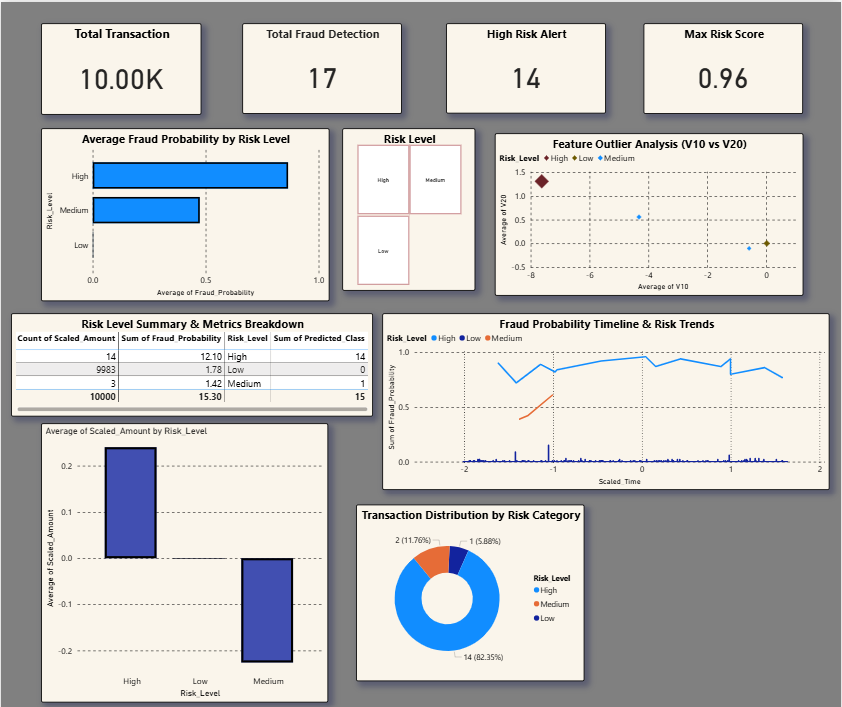

What the dashboard file says about the page in this screenshot:
{"tool":"powerbi","page":{"name":"Credit Card fraud detection","canvas":[1600,1365],"ordinal":0},"visuals":[{"type":"card","title":"Total Transaction","fields":{"Values":["CountNonNull(creditcard_predictions.Class)"]},"box":[76,40.2,305.5,174.3],"z":0},{"type":"card","title":"Total Fraud Detection","fields":{"Values":["Sum(creditcard_predictions.Class)"]},"box":[460.4,40.2,304,172.8],"z":1000},{"type":"card","title":"High Risk Alert","fields":{"Values":["CountNonNull(creditcard_predictions.Risk_Level)"]},"box":[847.7,41.5,304.6,172.3],"z":2000},{"type":"card","title":"Max Risk Score","fields":{"Values":["Max(creditcard_predictions.Fraud_Probability)"]},"box":[1223.3,40.2,304,172.8],"z":3000},{"type":"barChart","title":"Average Fraud Probability by Risk Level","fields":{"Category":["creditcard_predictions.Risk_Level"],"Y":["Avg(creditcard_predictions.Fraud_Probability)"]},"box":[75.4,240,549.2,329.2],"z":4000},{"type":"lineChart","title":"Fraud Probability Timeline & Risk Trends","fields":{"Category":["creditcard_predictions.Scaled_Time"],"Series":["creditcard_predictions.Risk_Level"],"Y":["Sum(creditcard_predictions.Fraud_Probability)"]},"box":[726.2,592.3,852.3,336.9],"z":5000},{"type":"tableEx","title":"Risk Level Summary & Metrics Breakdown","fields":{"Values":["CountNonNull(creditcard_predictions.Scaled_Amount)","Sum(creditcard_predictions.Fraud_Probability)","creditcard_predictions.Risk_Level","Sum(creditcard_predictions.Predicted_Class)"]},"box":[18.5,592.3,689.2,196.9],"z":6000},{"type":"slicer","title":"Risk Level","fields":{"Values":["creditcard_predictions.Risk_Level"]},"box":[650.8,240,253.8,309.2],"z":7000},{"type":"scatterChart","title":"Feature Outlier Analysis (V10 vs V20)","fields":{"Category":["creditcard_predictions.Predicted_Class"],"Series":["creditcard_predictions.Risk_Level"],"Size":["Sum(creditcard_predictions.Fraud_Probability)"],"X":["Avg(creditcard_predictions.V10)"],"Y":["Avg(creditcard_predictions.V20)"]},"box":[940,250.8,587.7,309.2],"z":8000},{"type":"donutChart","title":"Transaction Distribution by Risk Category","fields":{"Category":["creditcard_predictions.Risk_Level"],"Y":["Sum(creditcard_predictions.Class)"]},"box":[675.4,956.9,435.4,336.9],"z":9000},{"type":"clusteredColumnChart","fields":{"Category":["creditcard_predictions.Risk_Level"],"Y":["Avg(creditcard_predictions.Scaled_Amount)"]},"box":[76,801.6,546.8,531.9],"z":10000}]}

Visuals, with their boxes in screenshot pixels (x1, y1, x2, y2), scaled from the page's 1600x1365 canvas onto the 842x707 screenshot:
"Total Transaction" card: (40, 21, 201, 111)
"Total Fraud Detection" card: (242, 21, 402, 110)
"High Risk Alert" card: (446, 21, 606, 111)
"Max Risk Score" card: (644, 21, 804, 110)
"Average Fraud Probability by Risk Level" barChart: (40, 124, 329, 295)
"Fraud Probability Timeline & Risk Trends" lineChart: (382, 307, 831, 481)
"Risk Level Summary & Metrics Breakdown" tableEx: (10, 307, 372, 409)
"Risk Level" slicer: (342, 124, 476, 284)
"Feature Outlier Analysis (V10 vs V20)" scatterChart: (495, 130, 804, 290)
"Transaction Distribution by Risk Category" donutChart: (355, 496, 585, 670)
clusteredColumnChart - creditcard_predictions.Risk_Level x Avg(creditcard_predictions.Scaled_Amount): (40, 415, 328, 691)
